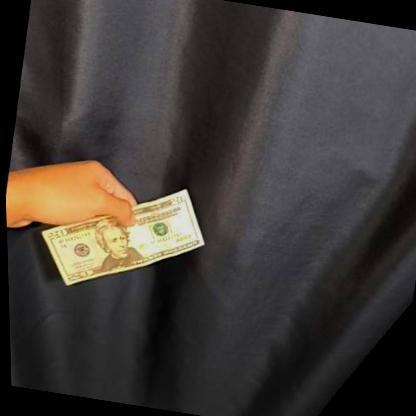dollar_front: (28, 164, 216, 309)
